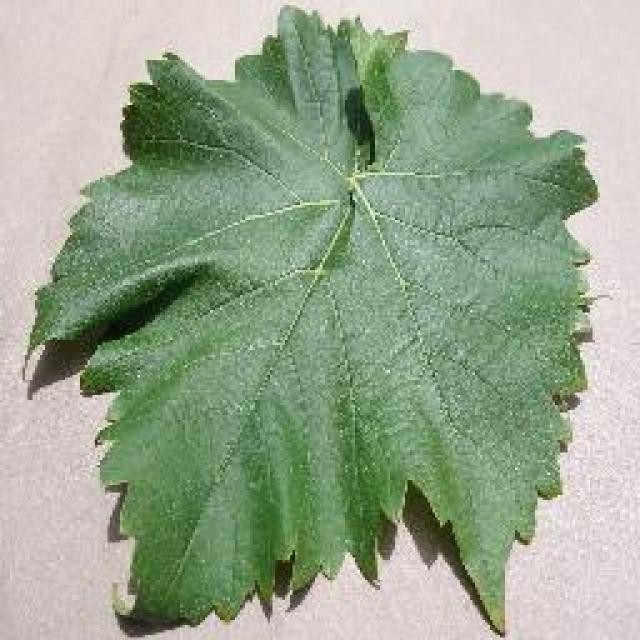Grape___healthy: (28, 8, 595, 630)
